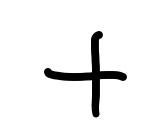plus: (42, 31, 126, 117)
